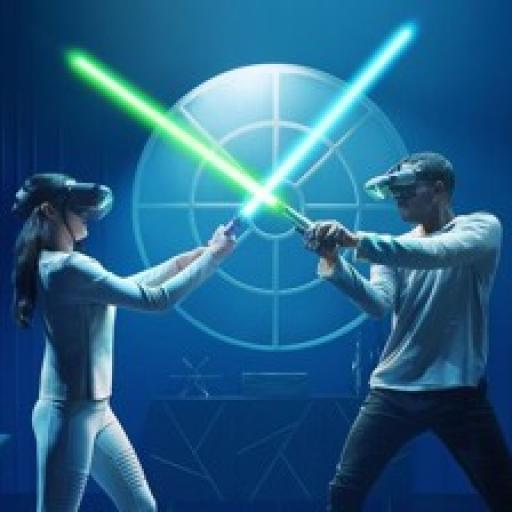human: (0, 170, 238, 512), (302, 148, 512, 512)
lightsaber: (67, 49, 343, 253), (194, 22, 418, 259)
